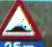Speed Breaker ahead: (0, 0, 45, 46)
